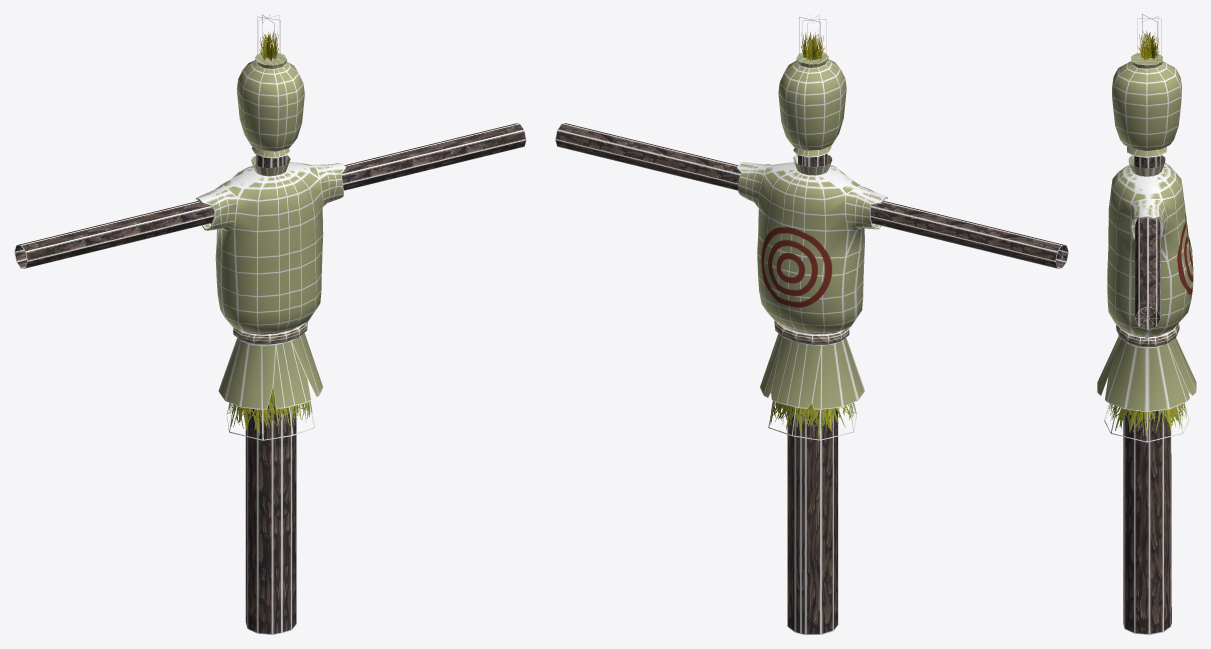
The model's file is EnemyV2.fbx.
3 views of the same model, side by side, from view 1: azimuth 30°, elevation 25°; view 2: azimuth 150°, elevation 25°; view 3: azimuth 270°, elevation 25° (orthographic).
Visible parts, largest first — view 1: Body, Leg, Head, L_Arm, R_Arm, Stro, Belt; view 2: Body, Leg, Head, L_Arm, R_Arm, Stro, Belt; view 3: Body, Leg, Head, R_Arm, Stro, Belt, Stro_3, Neck, Stro_2, Stro_1.
Part boxes in pixels (box(x1,y1,x2,y2)): Body: box(195, 155, 345, 409); Leg: box(245, 405, 296, 634); Head: box(236, 52, 304, 158); L_Arm: box(14, 200, 213, 268); R_Arm: box(341, 123, 526, 190); Stro: box(226, 387, 314, 440); Belt: box(233, 322, 307, 344); Body: box(737, 154, 887, 409); Leg: box(787, 405, 838, 634); Head: box(778, 52, 846, 157); L_Arm: box(870, 201, 1068, 268); R_Arm: box(555, 123, 741, 190); Stro: box(768, 401, 856, 440); Belt: box(774, 321, 849, 344); Body: box(1097, 155, 1196, 411); Leg: box(1123, 409, 1171, 634); Head: box(1112, 52, 1181, 157); R_Arm: box(1135, 217, 1160, 329); Stro: box(1104, 403, 1189, 442); Belt: box(1116, 323, 1179, 346); Stro_3: box(1137, 18, 1161, 57); Neck: box(1133, 156, 1160, 168); Stro_2: box(1140, 16, 1158, 60); Stro_1: box(1142, 14, 1157, 60).
Size of the model in its own units: 10.96 by 12.69 by 1.89.
